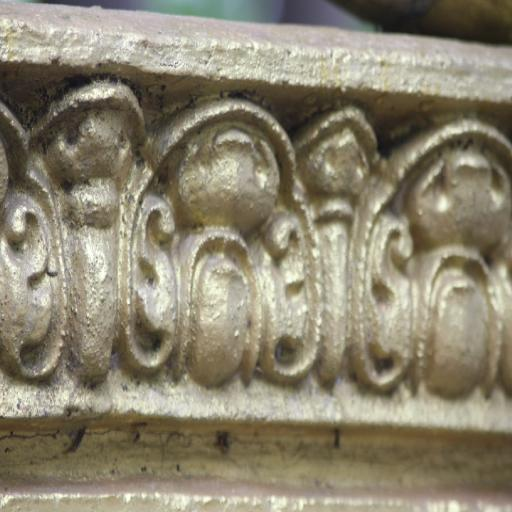la: (147, 101, 307, 379), (0, 95, 154, 381), (369, 109, 512, 392), (304, 106, 406, 370)
